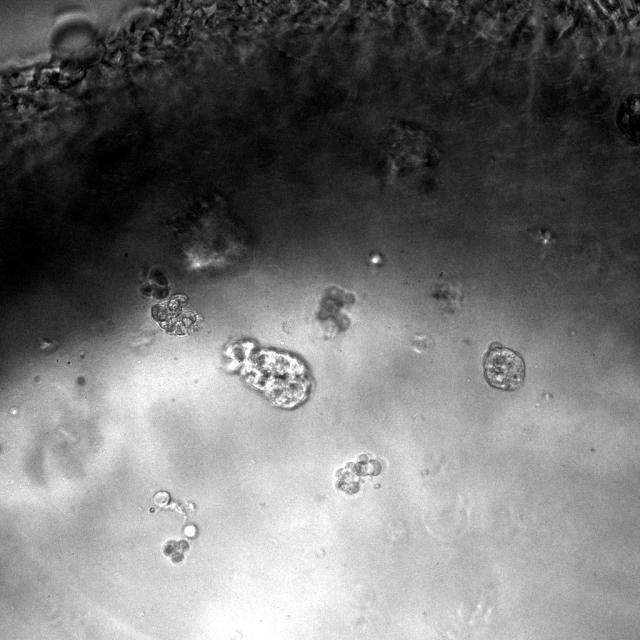organoid: (219, 338, 313, 408), (166, 193, 247, 270), (378, 118, 440, 192), (138, 266, 201, 336), (482, 341, 525, 391), (335, 454, 381, 494), (316, 286, 355, 333), (153, 490, 196, 517), (163, 539, 191, 563), (182, 522, 199, 540), (149, 507, 155, 513)
